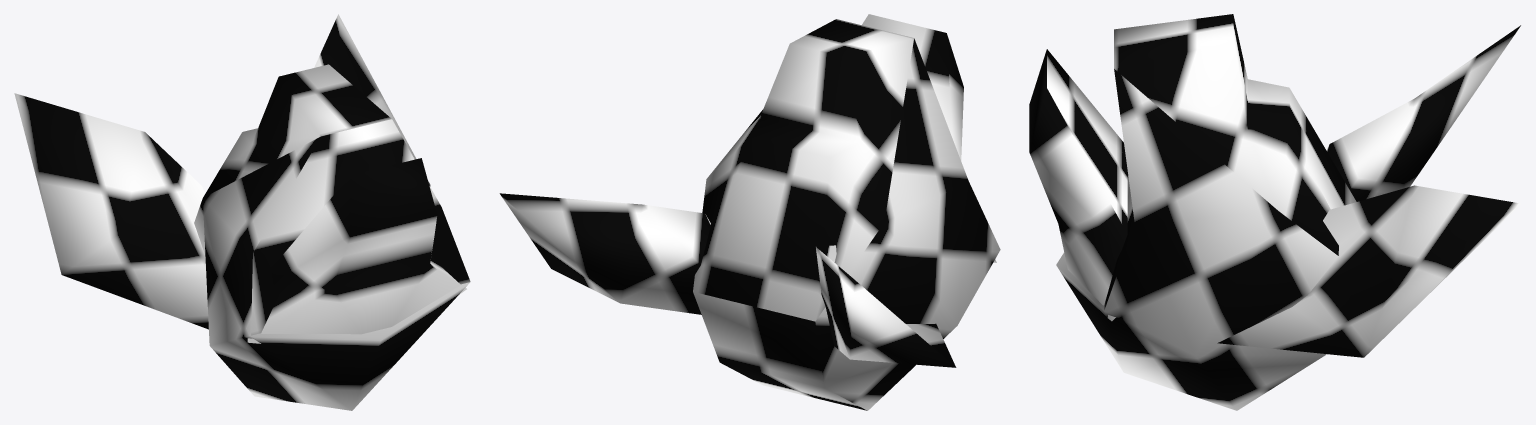
Rendered from infaunanwiba.dae.
The picture shows the model from 3 angles, left to right: view 1: azimuth 30°, elevation 25°; view 2: azimuth 150°, elevation 25°; view 3: azimuth 270°, elevation 25°; orthographic projection. The views are drawn at different scales.
Parts seen in each view (by area): view 1: face; view 2: face; view 3: face.
Part boxes in pixels (x1=…): face: x1=14, y1=14, x2=470, y2=410; face: x1=499, y1=14, x2=1000, y2=410; face: x1=1029, y1=14, x2=1520, y2=410.
Bounding box in the file's own units: 0.9609 × 0.9819 × 0.7854.
1 material, 1 textured.
